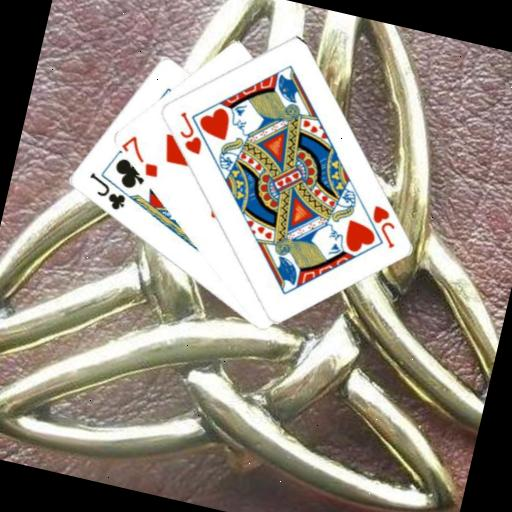7D: (114, 130, 167, 180)
JC: (80, 168, 132, 214)
JH: (168, 107, 211, 157), (362, 201, 404, 251)
